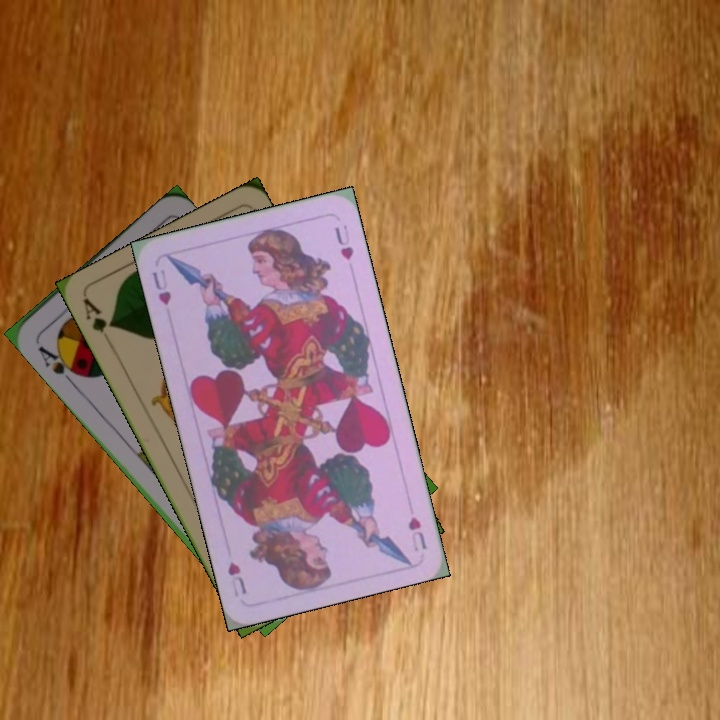GA: (79, 295, 117, 336)
HU: (148, 265, 174, 308), (404, 513, 430, 553)
SA: (34, 341, 83, 386)
